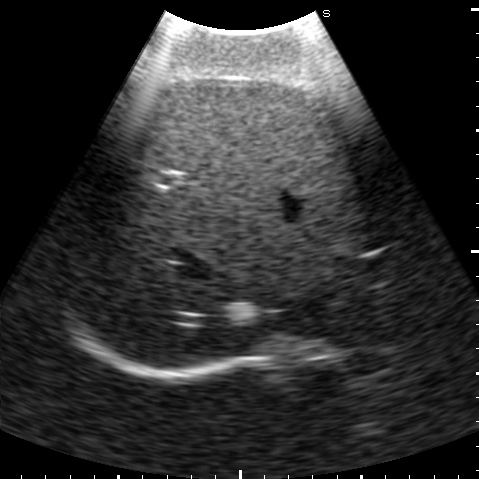S5: (132, 79, 344, 190)
S7: (60, 162, 164, 314)
S8: (104, 168, 376, 370)
Tumor: (226, 302, 260, 327)
